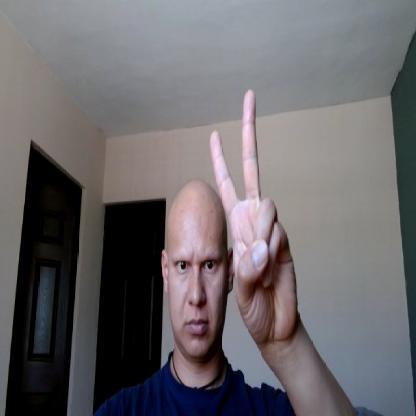V: (208, 86, 300, 348)
